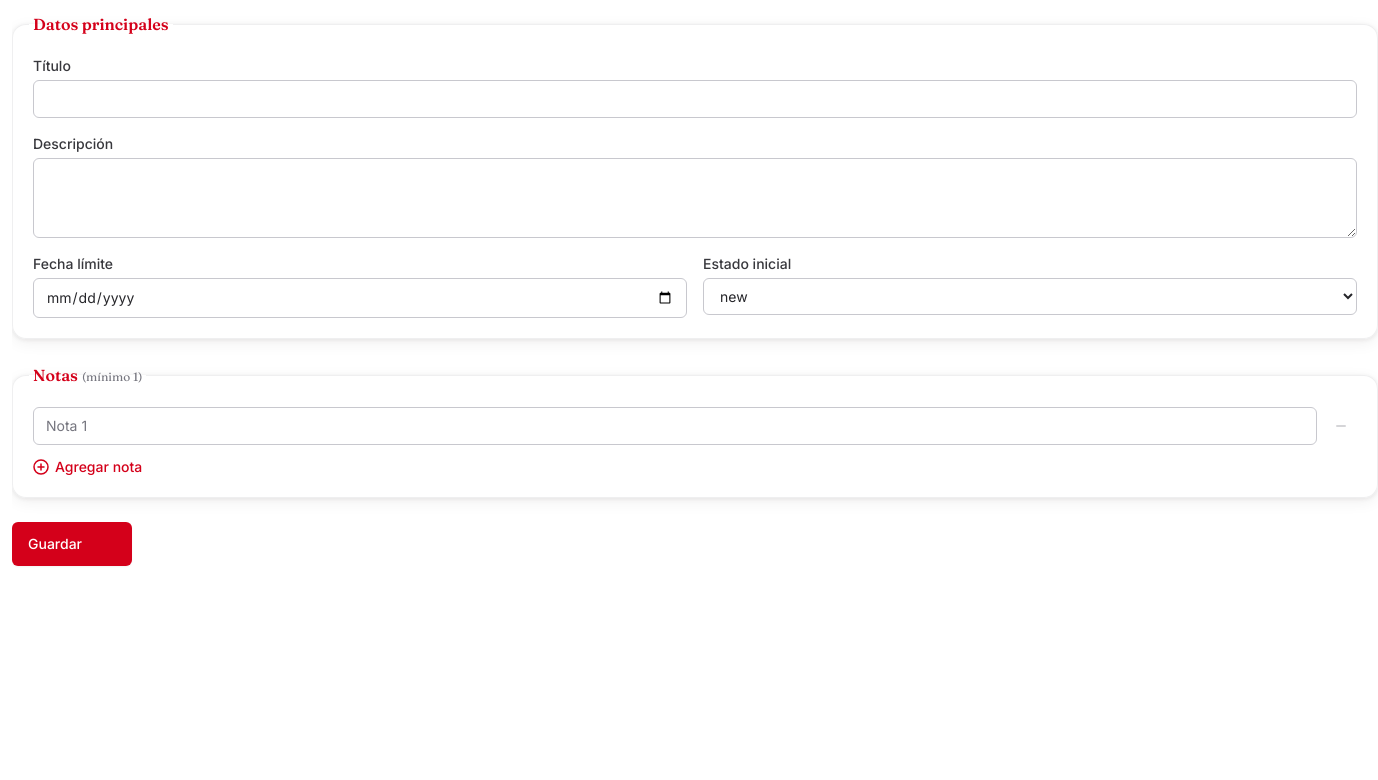
Test: TaskForm — validation › shows error when title is missing
The width and height of the screenshot is (1378, 780).
Expected: the dropdown labelled "Estado inicial" is shown, [703, 278, 1357, 315]
# Fill everything except title
Step 1. Type "desc" into the text box labelled "Descripción" → x=695, y=198, box [33, 158, 1357, 238]
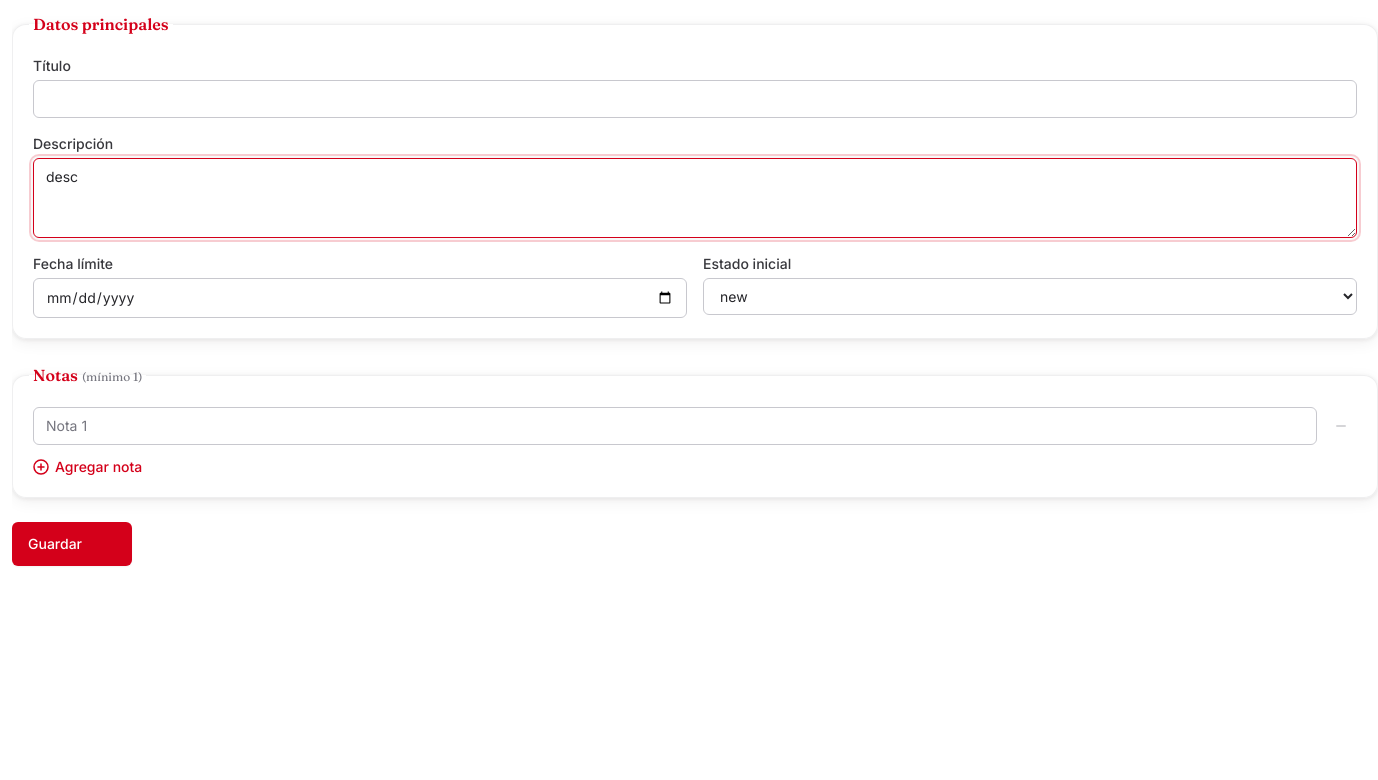
Step 2. Type "2025-06-01" into the date field labelled "Fecha límite" → x=360, y=298, box [33, 278, 687, 318]
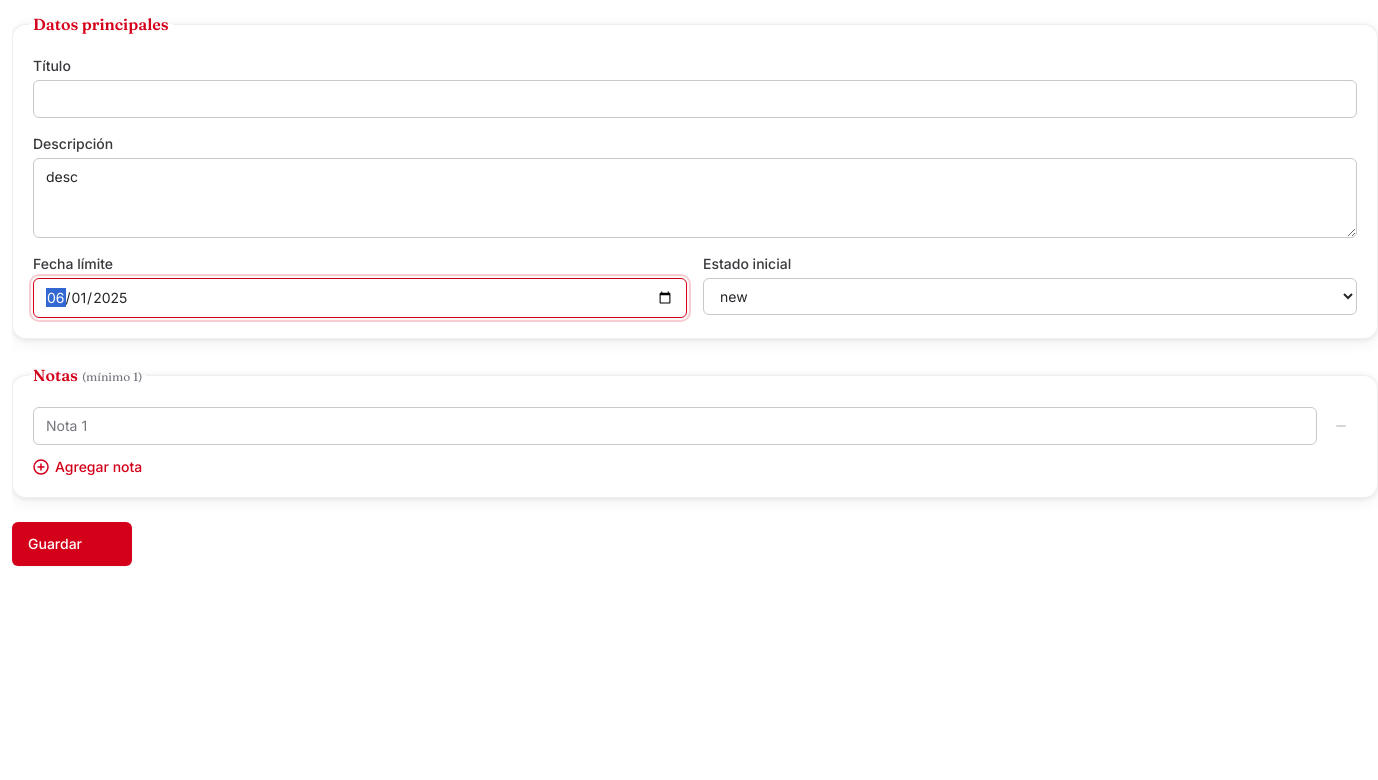
Step 3. Type "note" into the field with placeholder "Nota 1" → x=675, y=426, box [33, 407, 1317, 445]
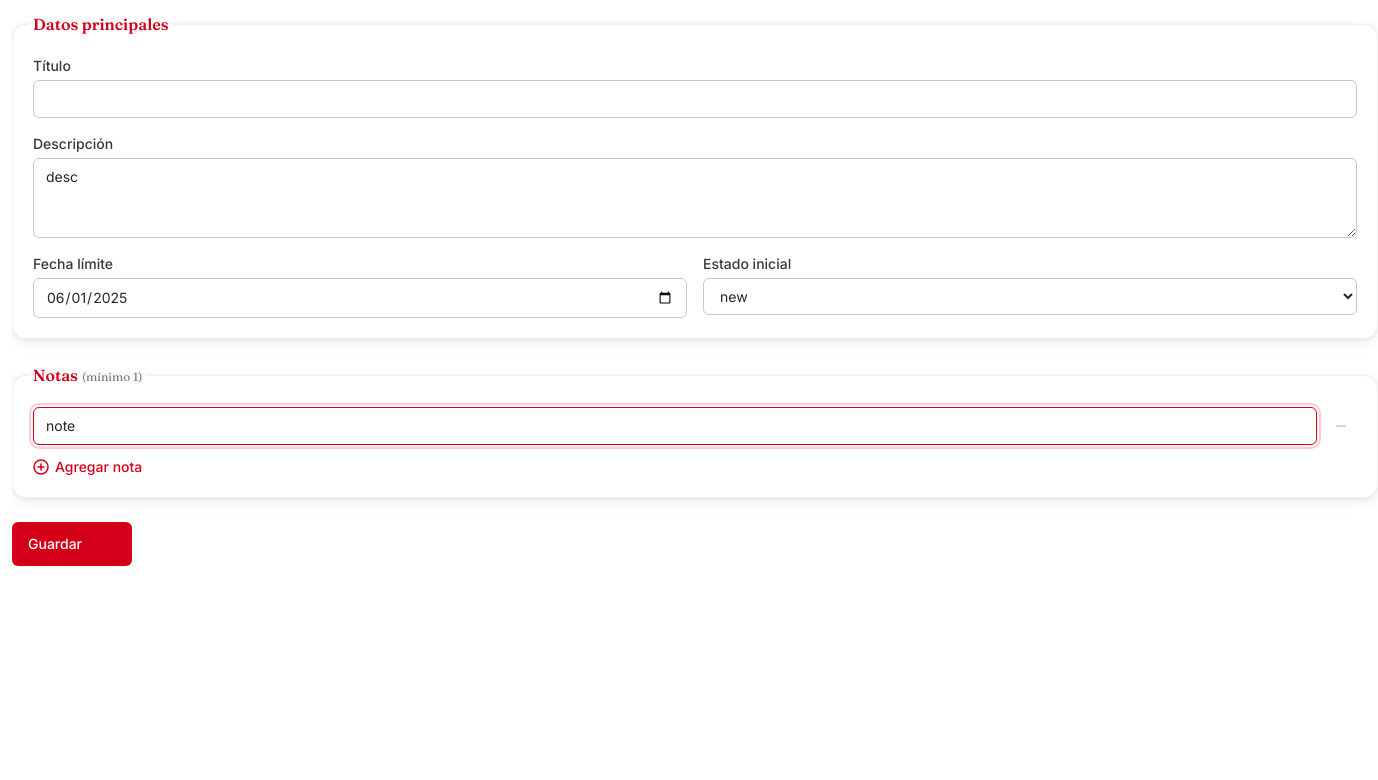
Step 4. Click the button "Guardar" → x=72, y=544, box [12, 522, 132, 566]
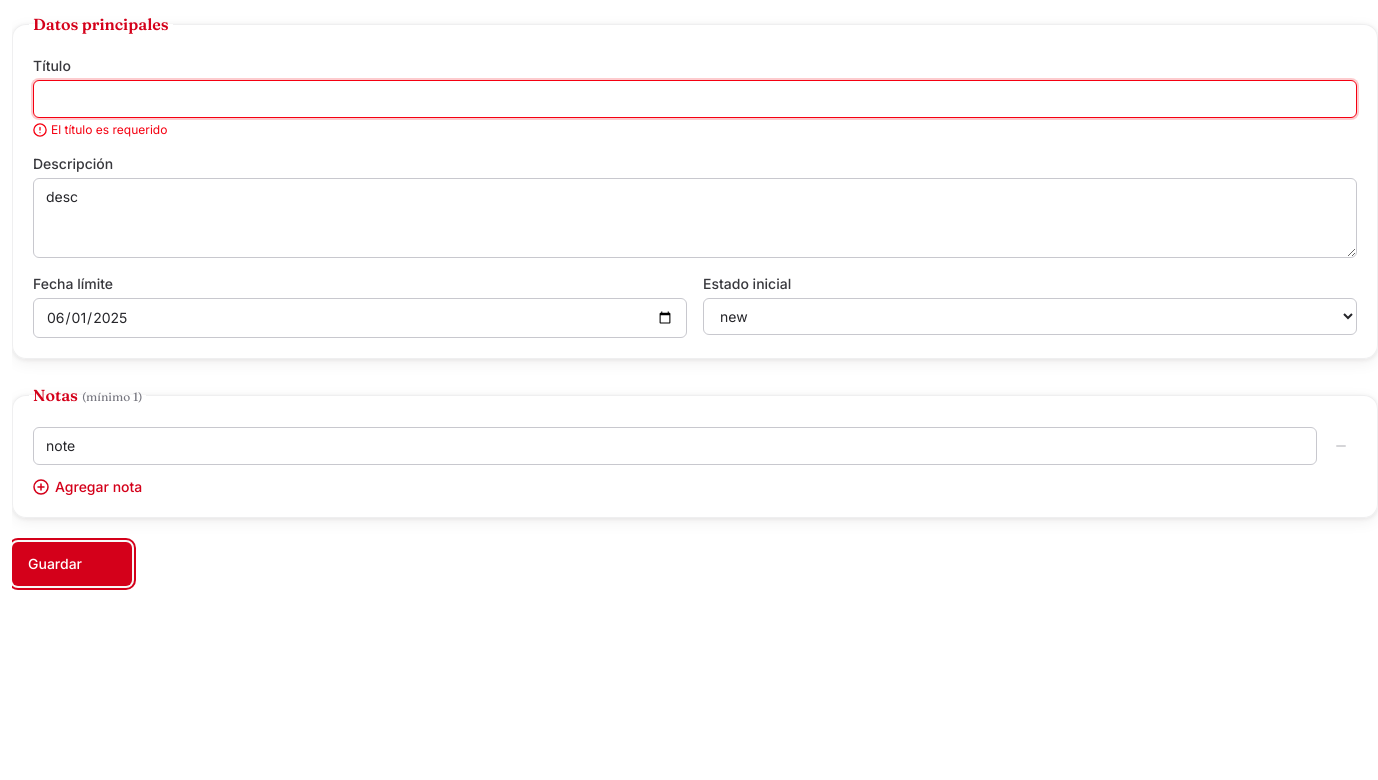
Expected: the text "El título es requerido" is shown, [33, 122, 167, 137]
